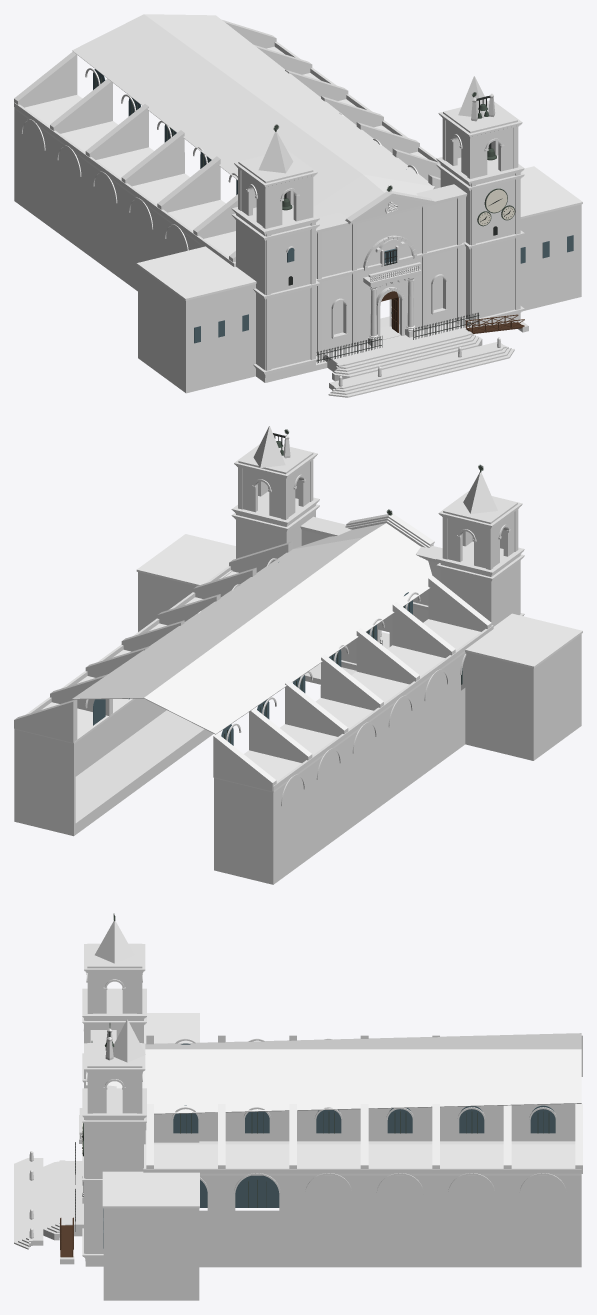
File: stjohn_ext-KdbWEmFU.glb
3 renders of one model, top to bottom at view 1: azimuth 30°, elevation 25°; view 2: azimuth 150°, elevation 25°; view 3: azimuth 270°, elevation 25°, orthographic.
Visible parts, largest first — view 1: Angle pilaster, Arch impost, Longitudinal roof, Facade, Aisle roof, Abacus, Bell hanger, Arched light, Cross brace, Dial, Dial.001; view 2: Angle pilaster, Longitudinal roof, Arch impost, Aisle roof, Abacus, Facade, Arched light; view 3: Angle pilaster, Longitudinal roof, Arch impost, Aisle roof, Arched light, Abacus, Dial.
Part boxes in pixels (left/top/right/bottom): Angle pilaster: left=14, top=109, right=581, bottom=393; Arch impost: left=14, top=20, right=528, bottom=397; Longitudinal roof: left=72, top=14, right=434, bottom=217; Facade: left=316, top=197, right=465, bottom=359; Aisle roof: left=14, top=46, right=582, bottom=300; Abacus: left=258, top=76, right=500, bottom=386; Bell hanger: left=284, top=95, right=513, bottom=363; Arched light: left=93, top=69, right=573, bottom=343; Cross brace: left=391, top=298, right=524, bottom=333; Dial: left=95, top=74, right=515, bottom=313; Dial.001: left=478, top=189, right=514, bottom=225; Angle pilaster: left=14, top=459, right=581, bottom=884; Longitudinal roof: left=72, top=523, right=432, bottom=734; Arch impost: left=14, top=435, right=524, bottom=806; Aisle roof: left=14, top=534, right=582, bottom=792; Abacus: left=253, top=426, right=497, bottom=636; Facade: left=301, top=530, right=440, bottom=670; Arched light: left=93, top=562, right=462, bottom=745; Angle pilaster: left=84, top=973, right=581, bottom=1300; Longitudinal roof: left=107, top=1033, right=581, bottom=1114; Arch impost: left=14, top=943, right=582, bottom=1264; Aisle roof: left=102, top=1013, right=581, bottom=1208; Arched light: left=103, top=1043, right=555, bottom=1248; Abacus: left=29, top=921, right=145, bottom=1238; Dial: left=83, top=913, right=549, bottom=1207.
Bounding box in the file's own units: 45.43 × 26.41 × 56.52.
